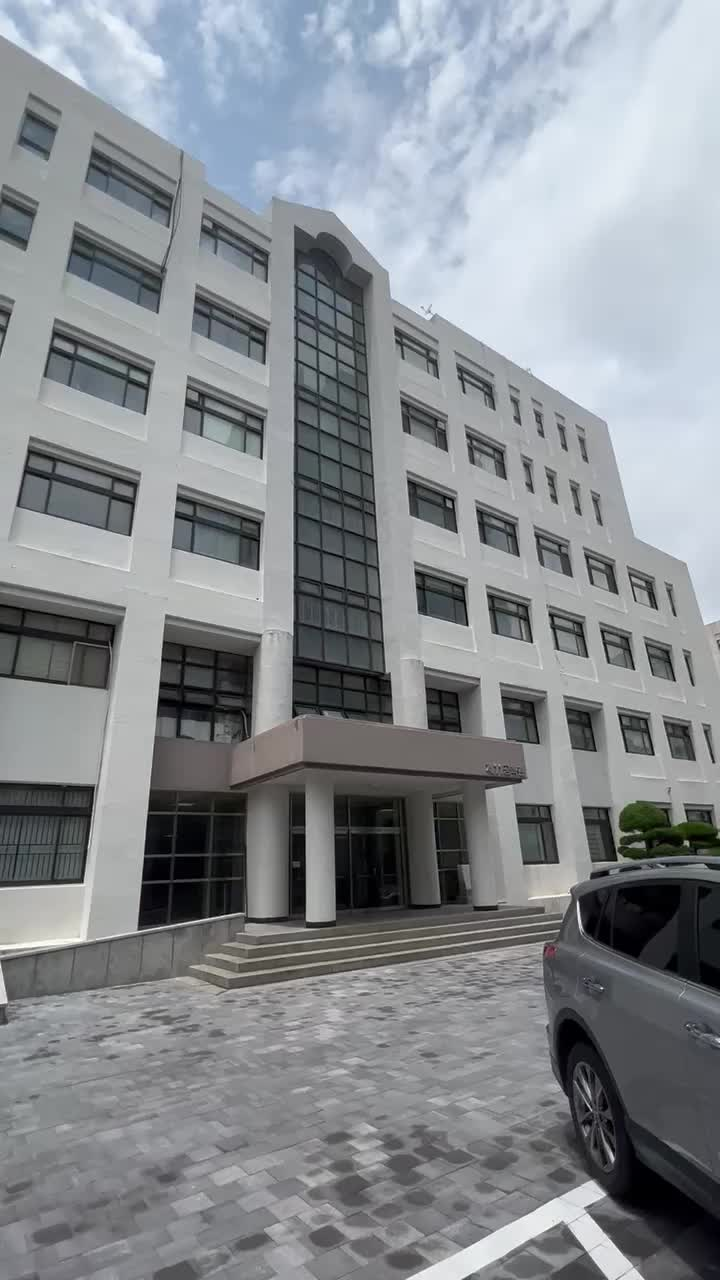medium: (20, 116, 582, 900)
